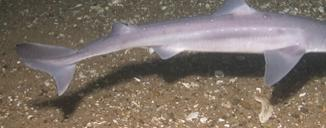Shark -Selachimorpha-: (10, 0, 326, 95)
